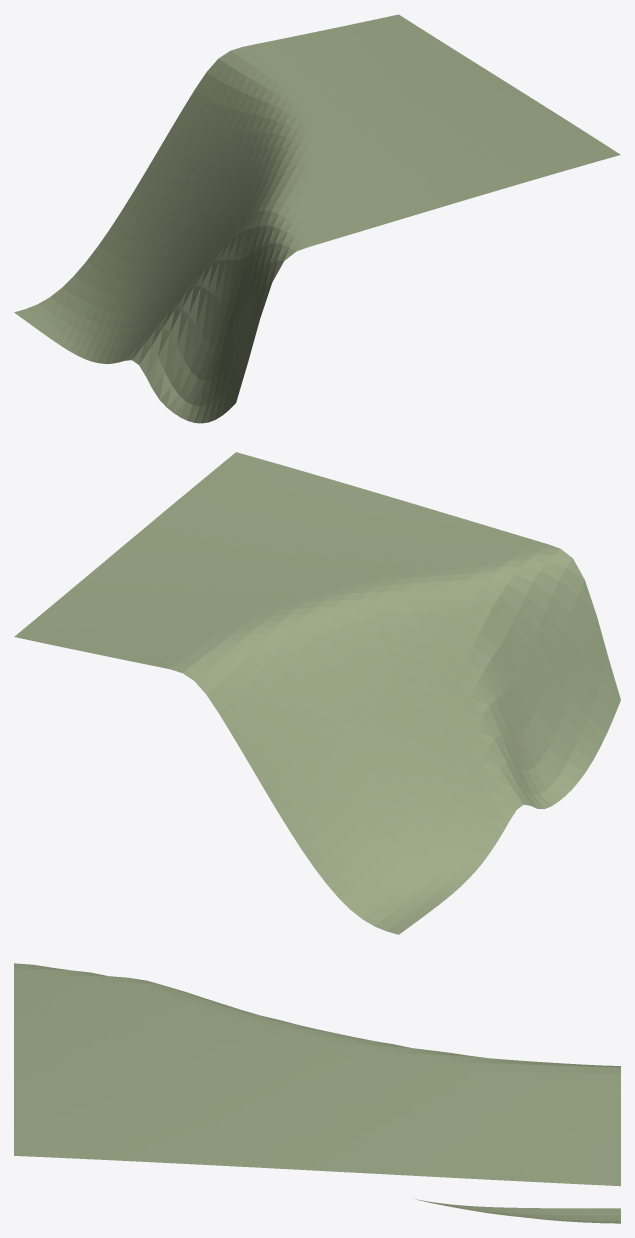
File: canyon-2-1.glb
3 views of the same model, one above another, from view 1: azimuth 30°, elevation 25°; view 2: azimuth 150°, elevation 25°; view 3: azimuth 270°, elevation 25° (orthographic). The views are drawn at different scales.
Visible parts, largest first — view 1: canyon-2-1; view 2: canyon-2-1; view 3: canyon-2-1.
Part boxes in pixels (<box>): canyon-2-1: <box>14,14,620,423</box>; canyon-2-1: <box>14,452,620,934</box>; canyon-2-1: <box>14,963,620,1223</box>.
Bounding box in the file's own units: 128 × 71.92 × 128.
